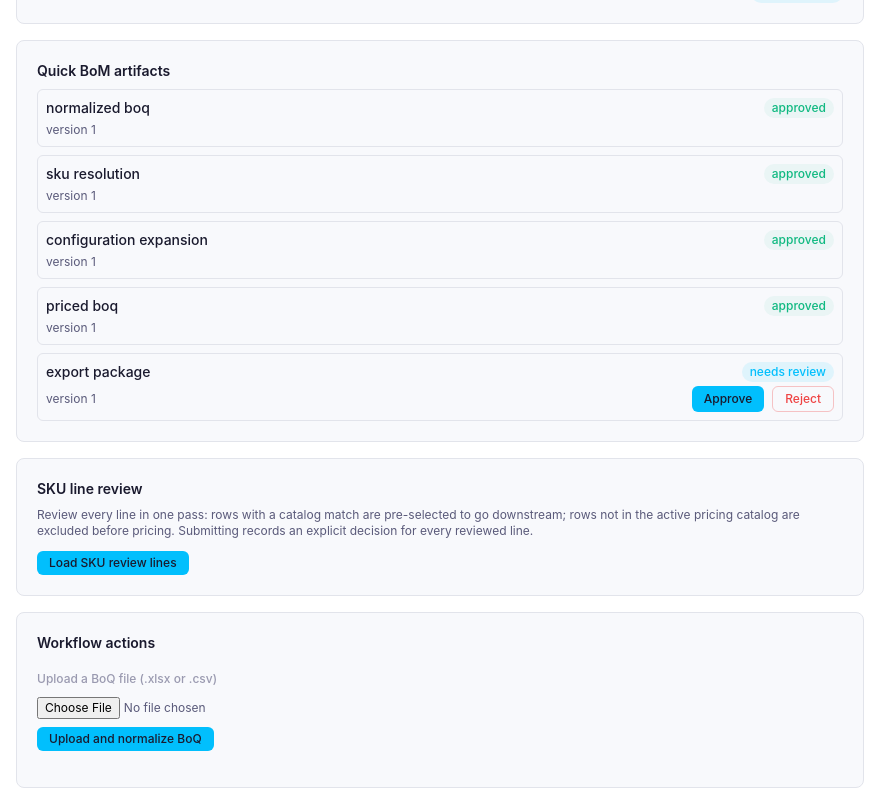
ProjectQuickBomPage - export_package review (generic approvals route) › reloads the GET workspace when the approval response has no ok workspace
(page scrolled)
Click the button with test id "approve-export_package".
click(728, 399)  # box [692,386,764,412]
(page scrolled)
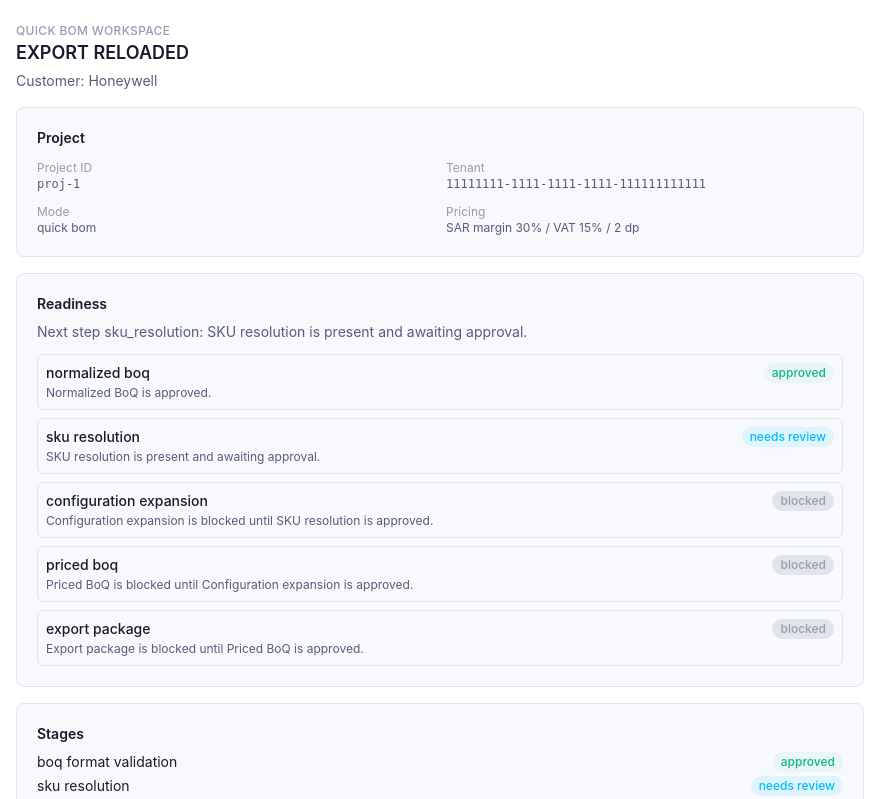
Now the heading "EXPORT RELOADED" is shown, box [16,42,189,63]
